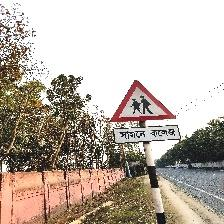College-in-front: (103, 74, 184, 164)
